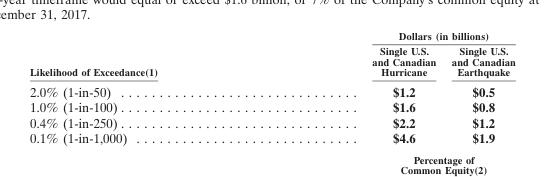table: (29, 29, 514, 145)
table column: (29, 29, 264, 145), (264, 29, 443, 145), (443, 29, 514, 145)
table column header: (29, 29, 514, 80)
table row: (29, 43, 514, 80), (29, 80, 514, 98), (29, 98, 514, 114), (29, 129, 514, 145), (29, 114, 514, 129), (29, 29, 514, 43)
table spanning cell: (29, 29, 264, 80), (264, 29, 514, 43)
